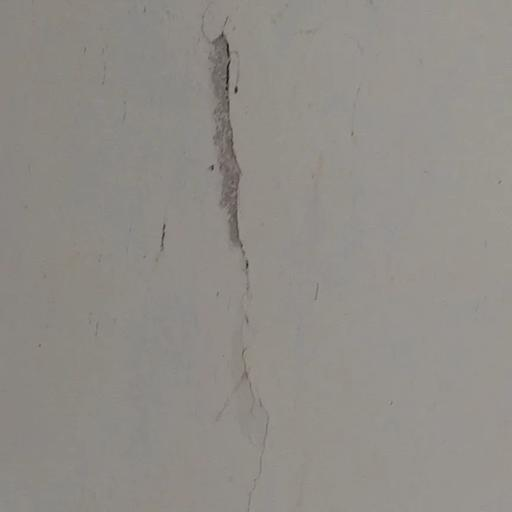minor_crack: (187, 8, 277, 512)
